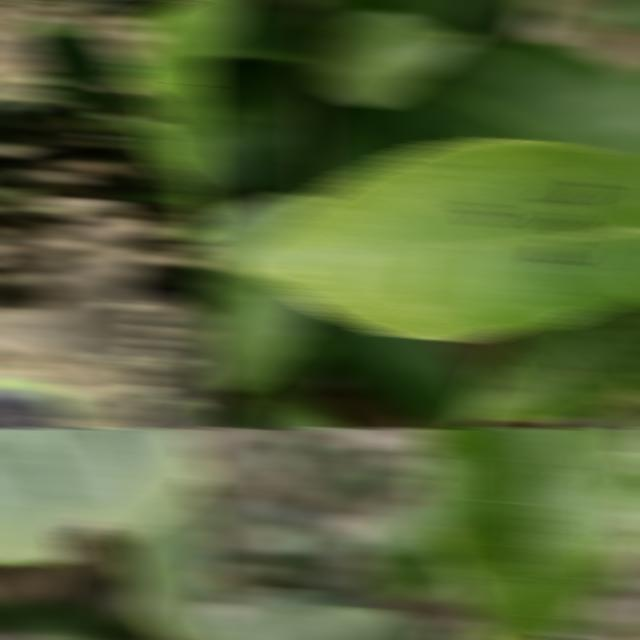Leaf: (226, 138, 640, 341), (414, 428, 640, 640), (0, 428, 213, 565), (408, 42, 640, 158), (195, 192, 319, 392), (457, 300, 640, 426), (303, 309, 481, 428), (314, 10, 476, 108), (195, 56, 313, 189), (113, 490, 213, 640), (22, 14, 126, 106), (362, 503, 453, 603), (195, 604, 432, 640), (0, 598, 111, 640), (249, 385, 344, 428)
